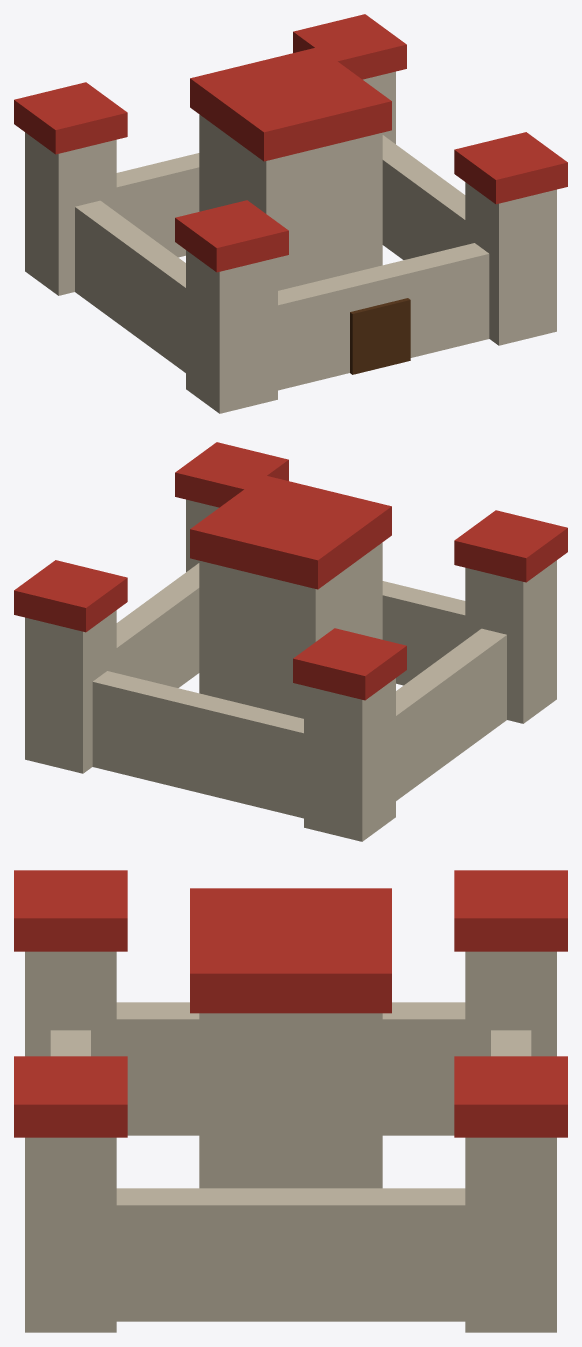
3 views of the same model, one above another, from view 1: azimuth 30°, elevation 25°; view 2: azimuth 150°, elevation 25°; view 3: azimuth 270°, elevation 25° (orthographic). The views are drawn at different scales.
Visible parts, largest first — view 1: Wall (×4), Keep, Keep roof, Tower WS, Tower ES, Tower WN, Tower roof WN, Tower roof WS, Tower roof ES, Tower roof EN, Gate, Tower EN; view 2: Wall (×4), Keep, Keep roof, Tower WN, Tower EN, Tower WS, Tower roof WS, Tower roof WN, Tower roof EN, Tower roof ES, Tower ES; view 3: Wall (×4), Keep, Keep roof, Tower EN, Tower ES, Tower roof WN, Tower roof EN, Tower roof WS, Tower roof ES, Tower WN, Tower WS.
Boxes of the visible parts, <box> form: Wall (×4): <box>75,135,489,390</box>; Keep: <box>199,114,382,290</box>; Keep roof: <box>190,47,391,161</box>; Tower WS: <box>186,250,277,413</box>; Tower ES: <box>465,182,556,345</box>; Tower WN: <box>25,132,116,295</box>; Tower roof WN: <box>14,82,127,154</box>; Tower roof WS: <box>175,200,288,272</box>; Tower roof ES: <box>454,132,567,204</box>; Tower roof EN: <box>293,14,406,79</box>; Gate: <box>350,298,410,374</box>; Tower EN: <box>363,71,395,143</box>; Wall (×4): <box>92,563,506,818</box>; Keep: <box>199,542,382,718</box>; Keep roof: <box>190,475,391,589</box>; Tower WN: <box>304,678,395,841</box>; Tower EN: <box>25,610,116,773</box>; Tower WS: <box>465,560,556,723</box>; Tower roof WS: <box>454,510,567,582</box>; Tower roof WN: <box>293,628,406,700</box>; Tower roof EN: <box>14,560,127,632</box>; Tower roof ES: <box>175,442,288,507</box>; Tower ES: <box>186,499,218,571</box>; Wall (×4): <box>50,1002,531,1321</box>; Keep: <box>199,1013,382,1188</box>; Keep roof: <box>190,888,391,1013</box>; Tower EN: <box>465,1137,556,1332</box>; Tower ES: <box>25,1137,116,1332</box>; Tower roof WN: <box>454,870,567,951</box>; Tower roof EN: <box>454,1056,567,1137</box>; Tower roof WS: <box>14,870,127,951</box>; Tower roof ES: <box>14,1056,127,1137</box>; Tower WN: <box>465,951,556,1056</box>; Tower WS: <box>25,951,116,1056</box>.
Bounding box in the file's own units: 3.02 × 1.74 × 3.02.
